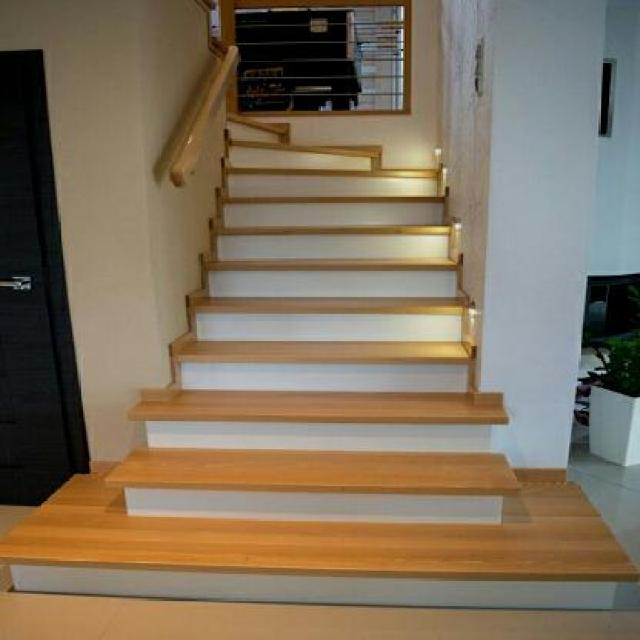stair: (127, 94, 602, 606)
